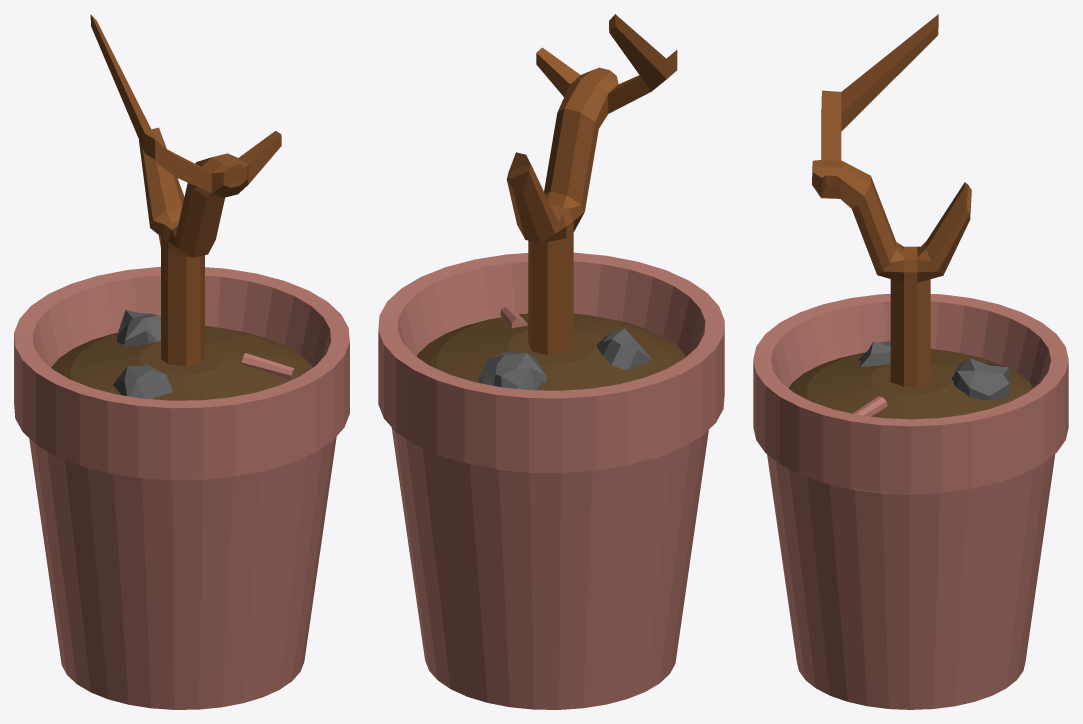
Rendered from Plant Pot.fbx.
3 renders of one model, left to right at view 1: azimuth 30°, elevation 25°; view 2: azimuth 150°, elevation 25°; view 3: azimuth 270°, elevation 25°, orthographic. The views are drawn at different scales.
Parts seen in each view (by area): view 1: Cube; view 2: Cube; view 3: Cube.
Boxes of the visible parts, box(x1,y1,x2,y2) form: Cube: box(14, 14, 349, 709); Cube: box(378, 14, 724, 709); Cube: box(753, 14, 1068, 709).
Size of the model in its own units: 214 by 459 by 214.
